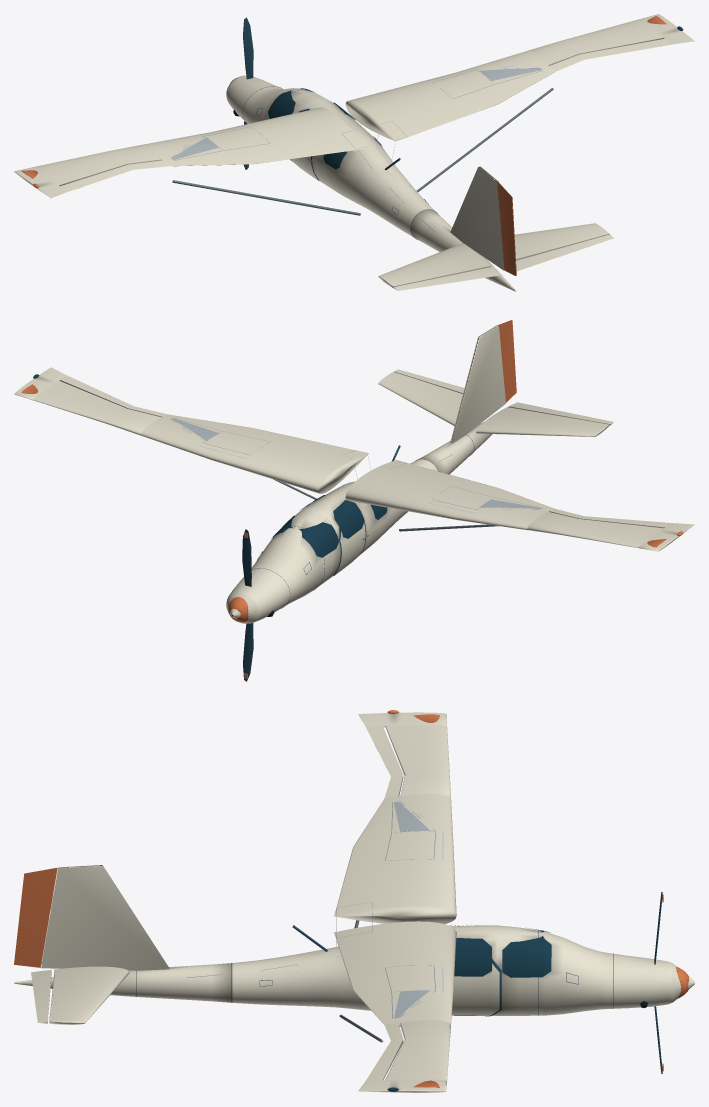
File: player-skylark-hero-v3.glb
3 renders of one model, top to bottom at view 1: azimuth 30°, elevation 25°; view 2: azimuth 150°, elevation 25°; view 3: azimuth 270°, elevation 25°, orthographic. The views are drawn at different scales.
Parts seen in each view (by area): view 1: hull, service-markings, rudder, metal, glass, aileron-right, elevator-right, elevator-left, aileron-left, propeller; view 2: hull, glass, service-markings, rudder, propeller, aileron-right, accent, aileron-left, elevator-left; view 3: hull, glass, rudder, service-markings, aileron-left, aileron-right, elevator-right, accent, trim.
Boxes of the visible parts, x1,y1,x2,y2 form: hull: [14, 14, 694, 291]; service-markings: [171, 66, 542, 231]; rudder: [497, 182, 516, 275]; metal: [172, 88, 553, 215]; glass: [268, 26, 683, 169]; aileron-right: [549, 38, 671, 71]; elevator-right: [516, 234, 613, 271]; elevator-left: [394, 267, 500, 290]; aileron-left: [60, 160, 167, 191]; propeller: [243, 17, 253, 169]; hull: [14, 325, 694, 623]; glass: [33, 374, 387, 557]; service-markings: [170, 418, 542, 513]; rudder: [497, 320, 516, 402]; propeller: [242, 529, 253, 681]; aileron-right: [60, 375, 168, 417]; accent: [21, 384, 683, 622]; aileron-left: [549, 509, 671, 527]; elevator-left: [508, 402, 613, 425]; hull: [14, 712, 694, 1092]; glass: [387, 924, 551, 1091]; rudder: [14, 867, 57, 967]; service-markings: [187, 801, 443, 1018]; aileron-left: [366, 725, 403, 798]; aileron-right: [366, 1023, 403, 1081]; elevator-right: [31, 969, 51, 1023]; accent: [387, 710, 688, 1087]; trim: [136, 925, 613, 1016].
Size of the model in its own units: 11.87 by 3.04 by 9.
